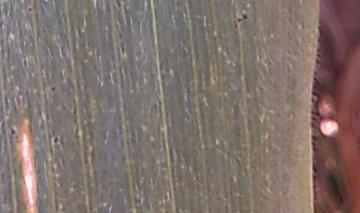tarspot: (241, 12, 249, 22), (119, 45, 126, 56), (117, 30, 124, 41), (49, 85, 58, 92), (52, 135, 59, 143), (9, 127, 16, 134), (211, 75, 217, 83), (236, 16, 242, 23), (115, 1, 121, 8), (27, 6, 32, 13)
